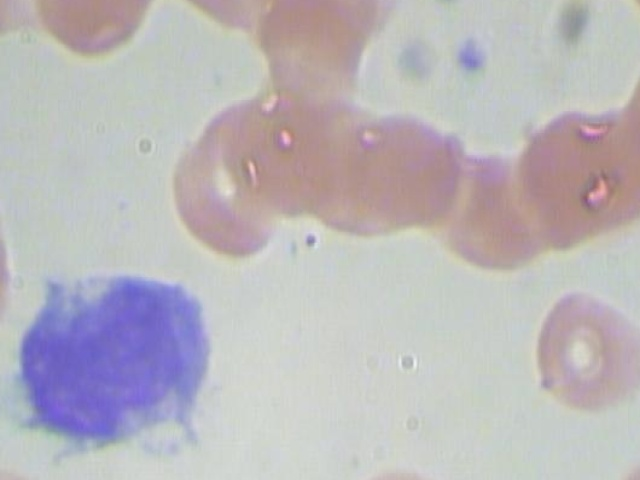Platelets: (450, 26, 496, 77), (410, 0, 476, 3)
RBC: (322, 90, 468, 236), (374, 122, 520, 268), (420, 133, 566, 279), (145, 119, 290, 265), (191, 75, 336, 221), (267, 97, 412, 243), (503, 100, 640, 246), (513, 278, 640, 424), (245, 0, 391, 95), (154, 0, 300, 58), (29, 0, 174, 58), (325, 458, 471, 480), (0, 162, 15, 342)
WBC: (2, 262, 223, 465)
